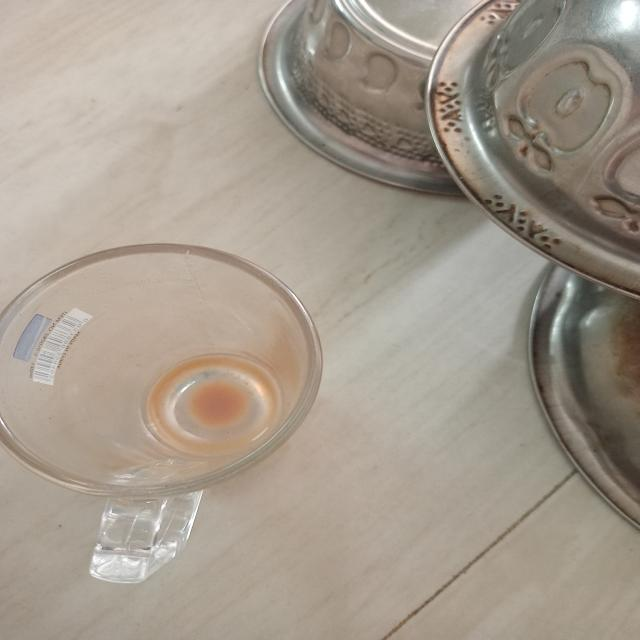glass-VX4N: (0, 239, 320, 584)
